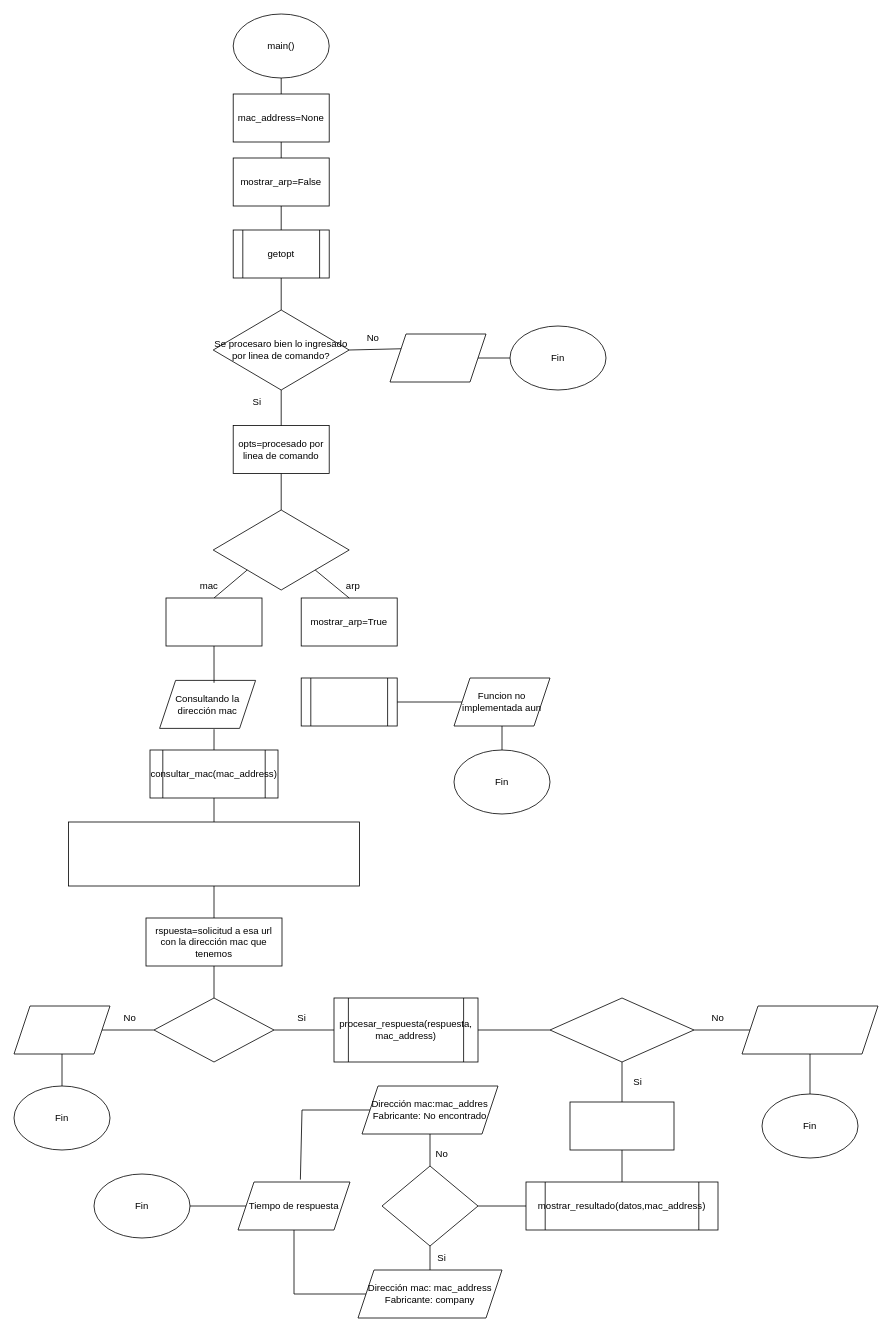
The diagram is 892 pixels wide and 1332 high, and some of its shapes have lost their labels. Each missing label, with the box of its shape:
API_ENDPOINT= https://api.maclookup.app/v2/macs/: (68, 821, 360, 886)
consultar_arp(): (300, 677, 397, 726)
datos contiene la clave company: (381, 1165, 478, 1246)
datos=respuesta.json(): (569, 1101, 674, 1150)
Error 2: (389, 333, 486, 382)
Error con la conexión: (13, 1005, 110, 1054)
Error, en el estado de la api: (741, 1005, 878, 1054)
Lo ingresado es una mac o un arp: (212, 509, 349, 590)
mac_address=mac ingresada por linea de comando: (165, 597, 262, 646)
respuesta.status_code==200: (549, 997, 694, 1062)
Solicitud exitosa: (153, 997, 274, 1062)
